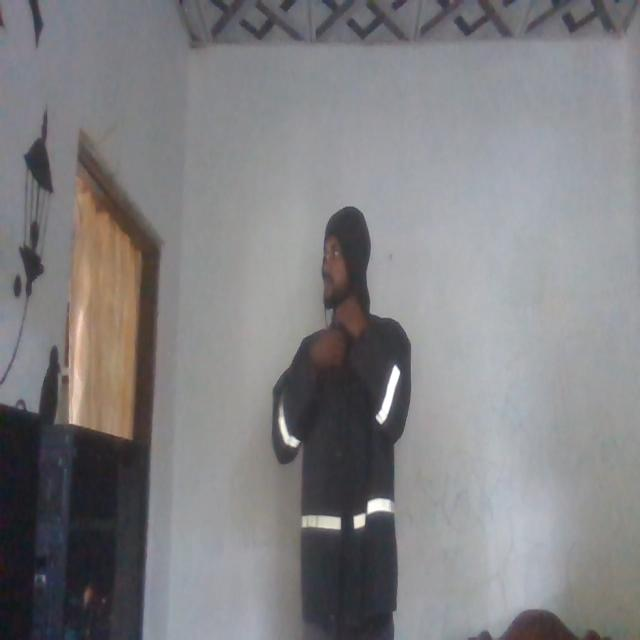Jacket_Wearer: (272, 304, 414, 608)
Person: (269, 204, 419, 640)
